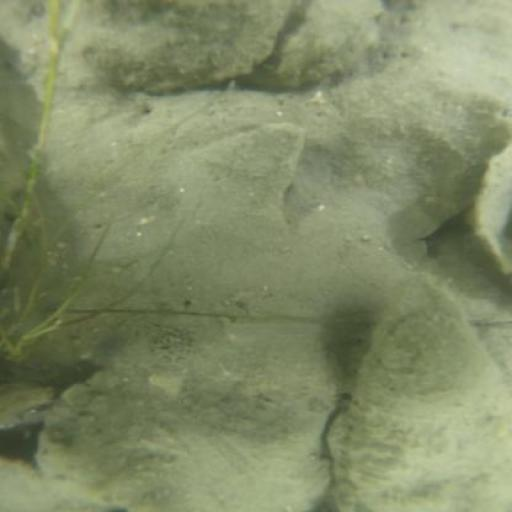Oyster-Closed: (42, 318, 355, 508), (66, 1, 292, 93), (271, 1, 382, 86)
Oyster-Open: (333, 291, 512, 512)
